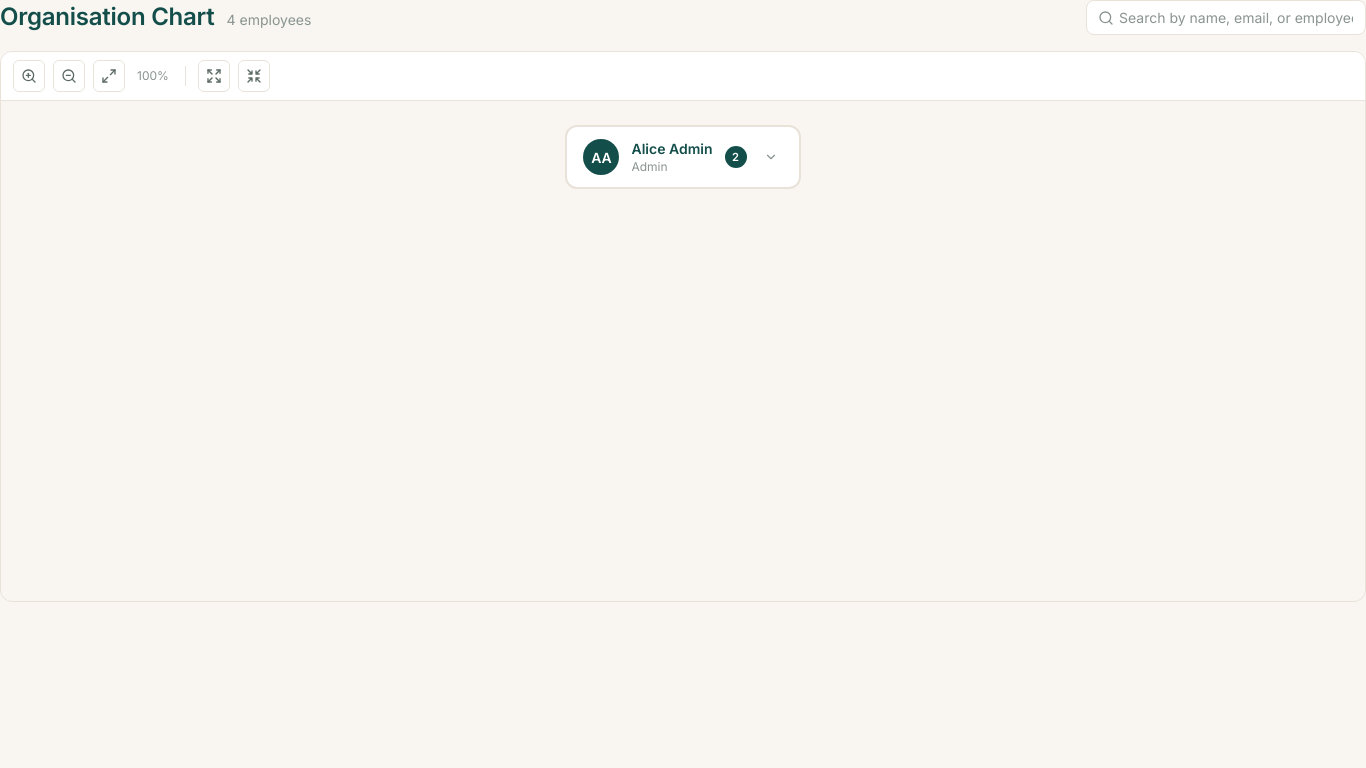
Test: OrgChartPage › opens quick card on node click
Expected: the text "Alice Admin" is shown, [632, 140, 712, 157]
Click the button labelled "AA Alice Admin Admin 2" at [683, 157], box [566, 125, 800, 189]
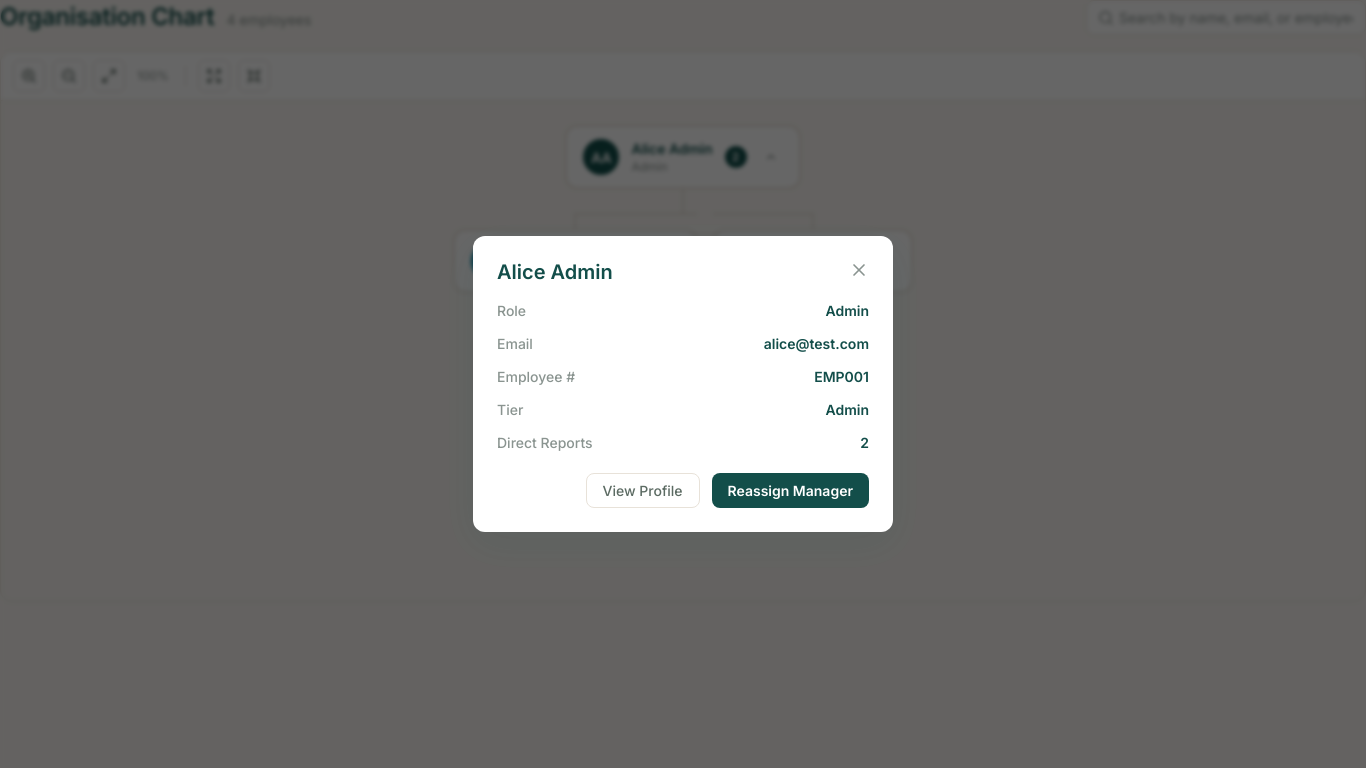
Now the text "alice@test.com" is shown, box [764, 333, 869, 354]
Now the button "View Profile" is shown, box [586, 473, 700, 508]
Now the button "Reassign Manager" is shown, box [712, 473, 869, 508]
